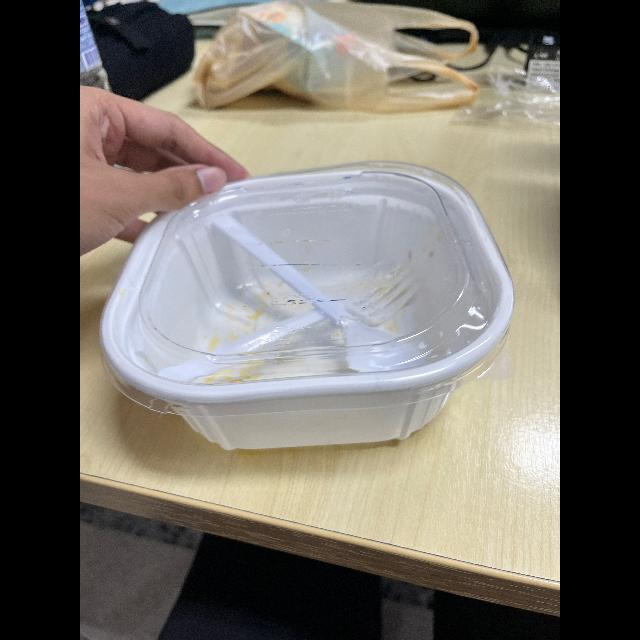plastic_box: (88, 154, 516, 444)
